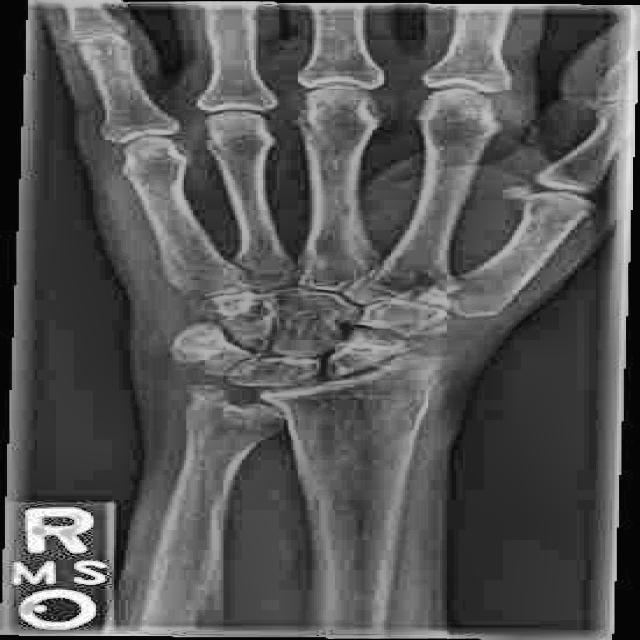wrist positive: (335, 310, 448, 360)
